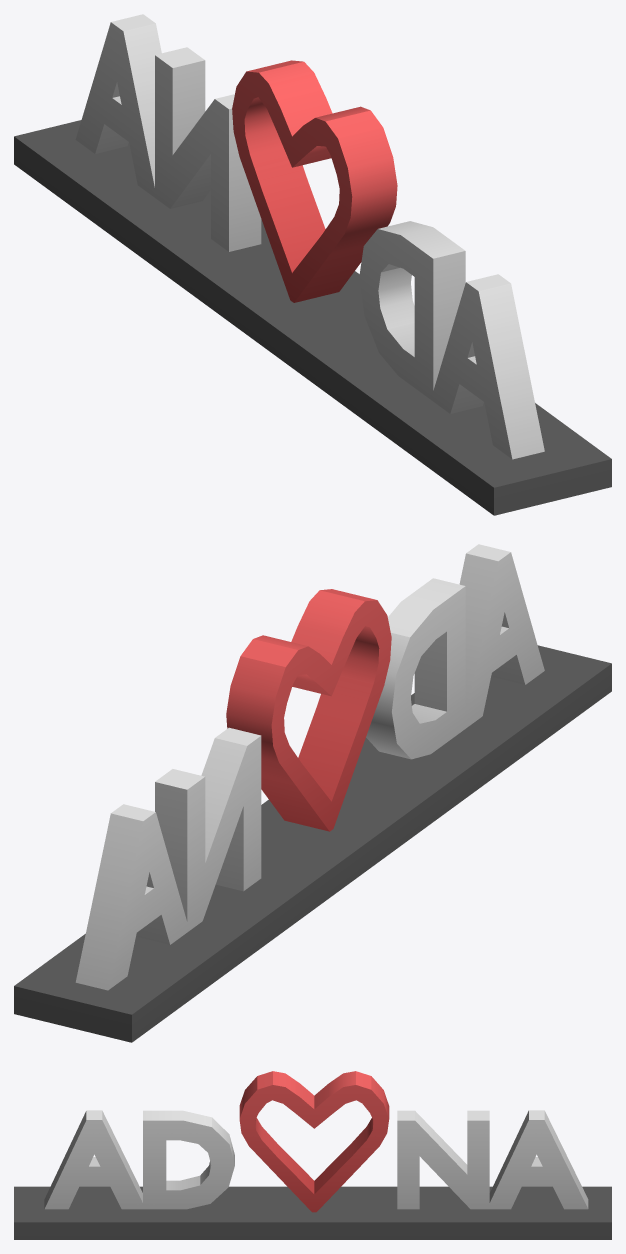
Rendered from ADANA_STATUE.fbx.
3 renders of one model, top to bottom at view 1: azimuth 30°, elevation 25°; view 2: azimuth 150°, elevation 25°; view 3: azimuth 270°, elevation 25°, orthographic. The views are drawn at different scales.
Parts seen in each view (by area): view 1: ADANA STATUE; view 2: ADANA STATUE; view 3: ADANA STATUE.
Part boxes in pixels (x1,y1,x2,y2): ADANA STATUE: (14, 14, 611, 515); ADANA STATUE: (14, 544, 611, 1042); ADANA STATUE: (14, 1071, 611, 1239).
Bounding box in the file's own units: 74.22 × 140 × 523.
